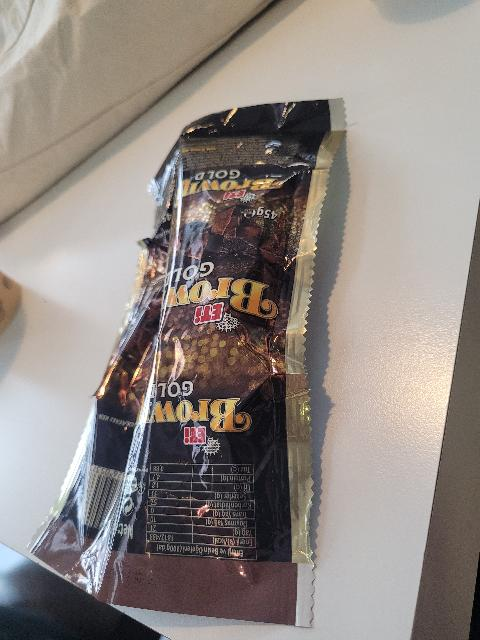Plastik: (19, 102, 343, 600)
